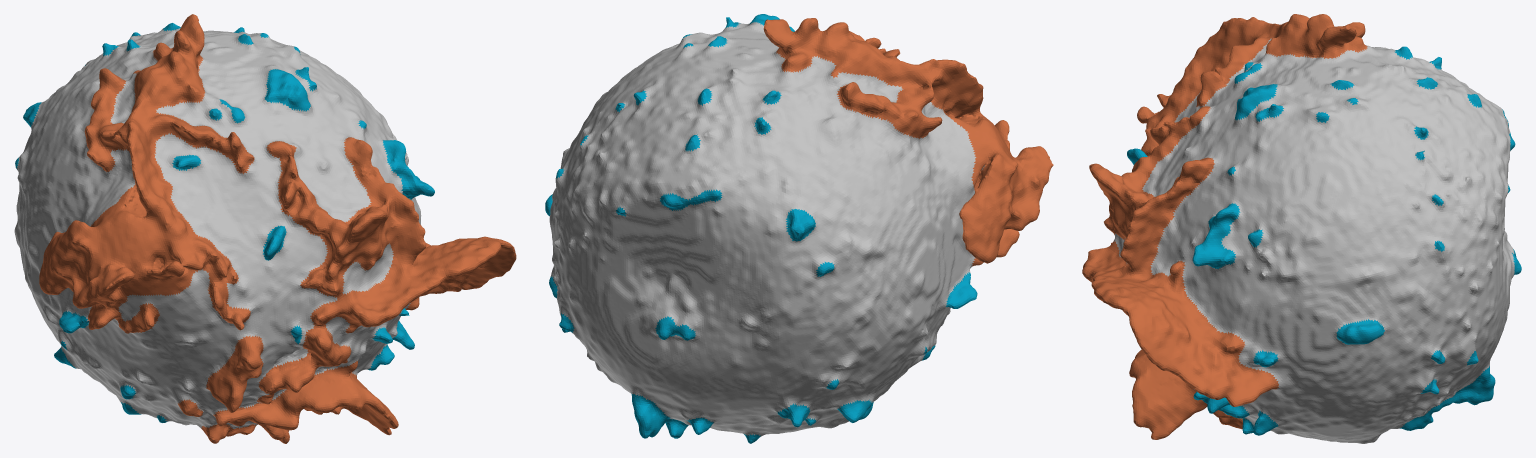
The picture shows the model from 3 angles, left to right: view 1: azimuth 30°, elevation 25°; view 2: azimuth 150°, elevation 25°; view 3: azimuth 270°, elevation 25°; orthographic projection. The views are drawn at different scales.
Bounding box in the file's own units: 169 × 157 × 161.
